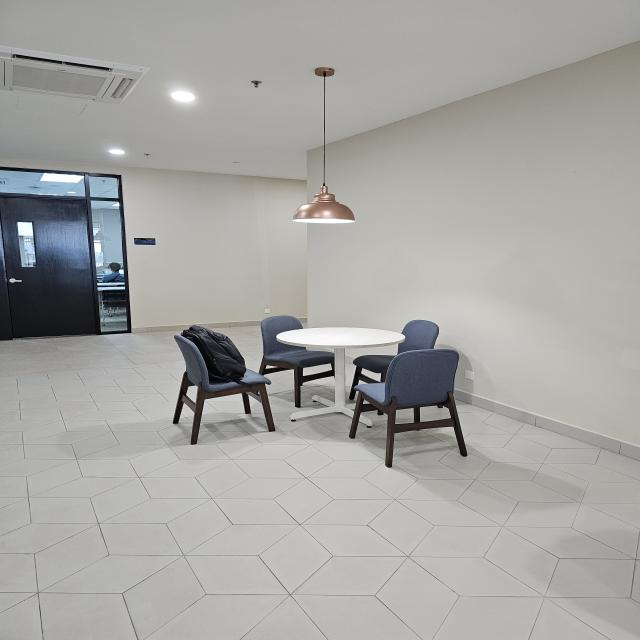footpath: (2, 474, 637, 639), (8, 343, 138, 462)
obstacle: (170, 305, 467, 465)
